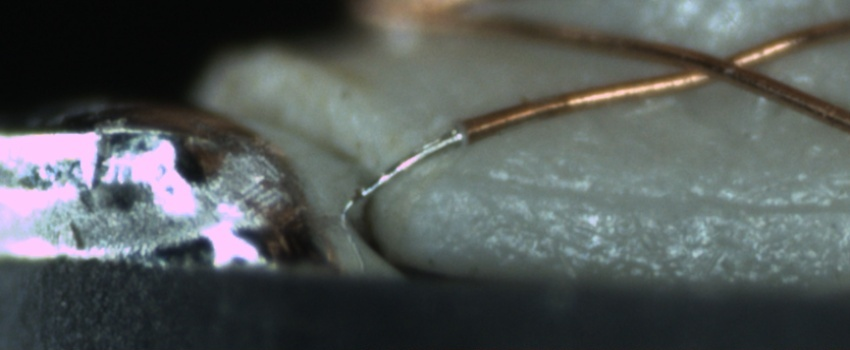CL: (666, 38, 781, 88)
DL: (441, 167, 850, 231)
TS: (361, 124, 465, 196)
TTCW: (355, 102, 535, 198)
